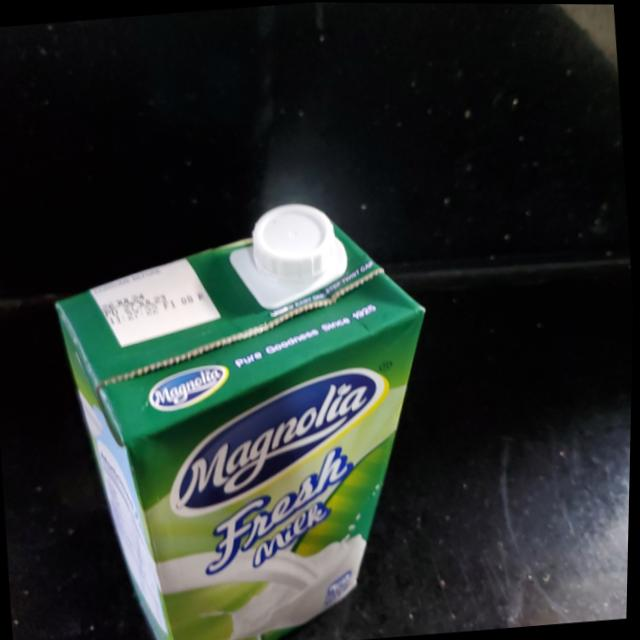milk: (42, 190, 459, 640)
